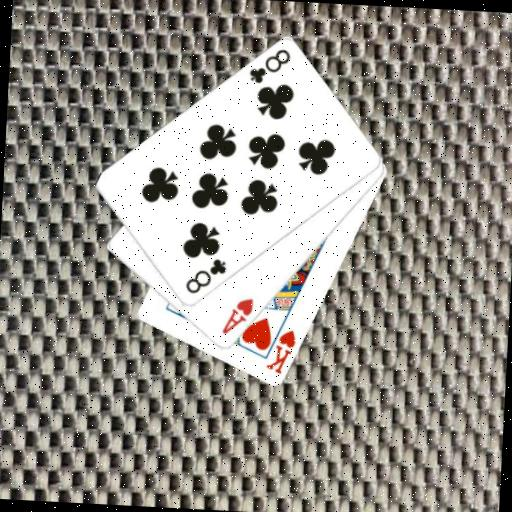8C: (181, 254, 229, 297), (245, 45, 293, 88)
AH: (219, 294, 256, 338)
KH: (263, 326, 298, 378)
